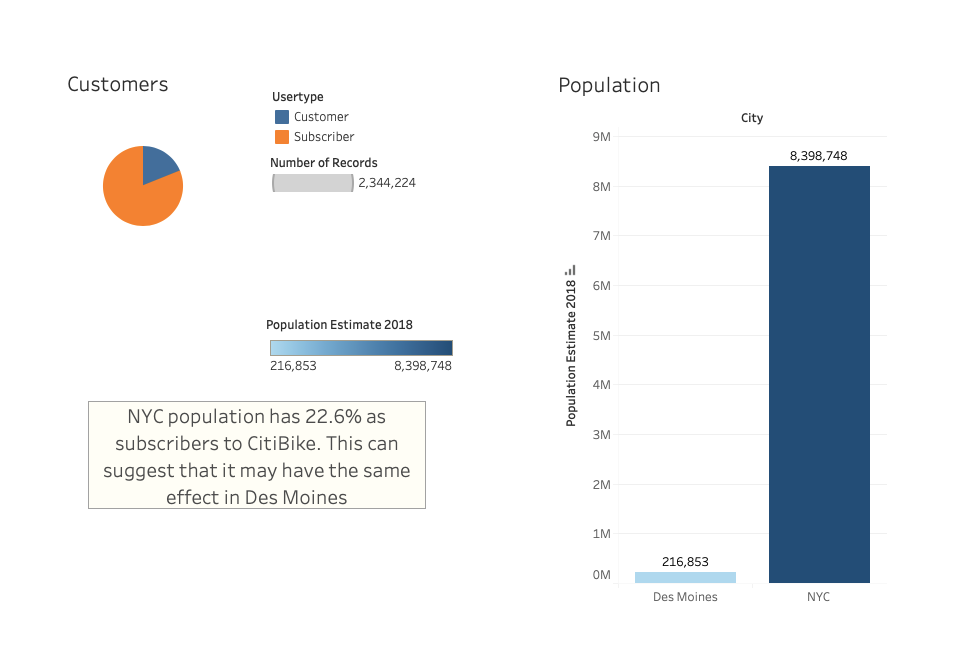

Layout of this report page (visuals, bound fields, positions):
{"tool":"tableau","page":{"name":"Population DM vs NYC","canvas":[1000,800],"ordinal":6},"visuals":[{"type":"worksheet","title":"Population","mark":"Bar","rows":["Population Estimate v. 2018"],"cols":["City"],"box":[589,117,333,559]},{"type":"worksheet","title":"Customers","mark":"Pie","box":[98,119,333,266]},{"type":"legend","title":"Customers","param":"[federated.1w7qm441jnrhvs13h8wko1yl6w8l].[none:usertype:nk]","box":[307,141,140,58]},{"type":"legend","title":"Customers","param":"[federated.1w7qm441jnrhvs13h8wko1yl6w8l].[sum:Number of Records:qk]","box":[305,215,140,38]},{"type":"legend","title":"Population","param":"[federated.12a6t0u1b8h3ah1caseau076p0qg].[sum:Population Estimate v. 2018:qk]","box":[301,369,191,59]}]}

Visuals, with their boxes on the page's 1000x800 design canvas (x1, y1, x2, y2). These are canvas units, not pixel positions in the 972x664 screenshot, which may show the page scaled, cropped or inside an application window:
"Population" worksheet (Bar marks): box=[589, 117, 922, 676]
"Customers" worksheet (Pie marks): box=[98, 119, 431, 385]
"Customers" legend: box=[307, 141, 447, 199]
"Customers" legend: box=[305, 215, 445, 253]
"Population" legend: box=[301, 369, 492, 428]
